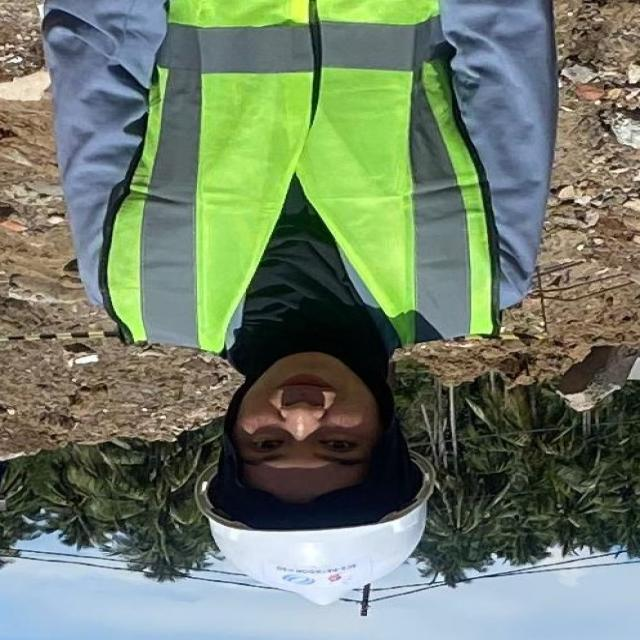safetyhelmet: (195, 348, 439, 606)
